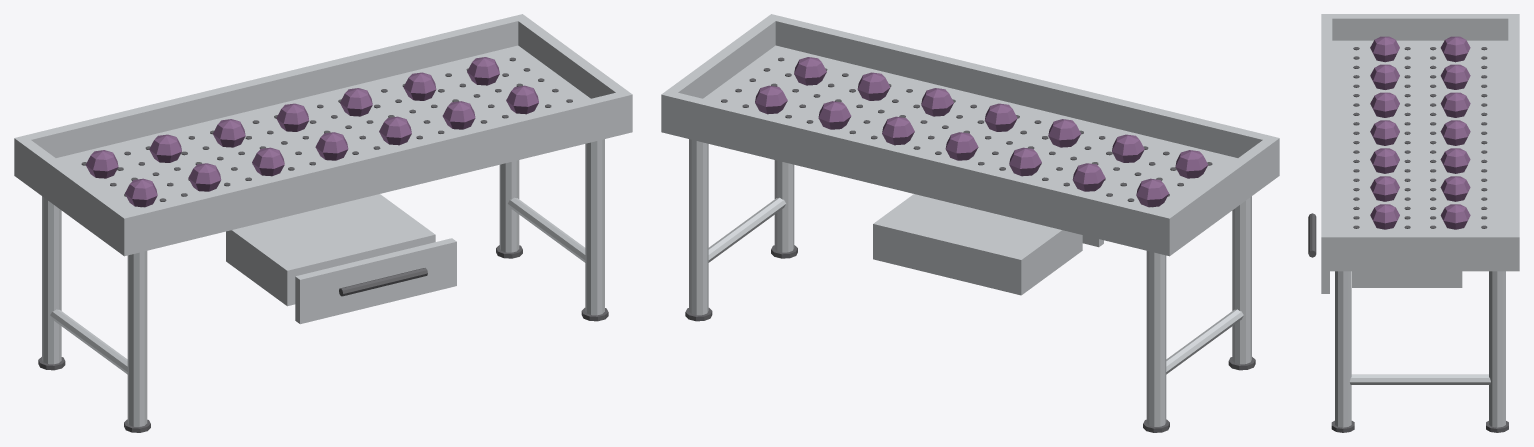
The model's file is sorting-table.glb.
3 views of the same model, side by side, from view 1: azimuth 30°, elevation 25°; view 2: azimuth 150°, elevation 25°; view 3: azimuth 270°, elevation 25° (orthographic). The views are drawn at different scales.
Visible parts, largest first — view 1: sorting-table-steel, drawer/steel, sorting-table-grape, sorting-table-dark, drawer/dark; view 2: sorting-table-steel, drawer/steel, sorting-table-grape, sorting-table-dark; view 3: sorting-table-steel, sorting-table-grape, drawer/steel, sorting-table-dark, drawer/dark.
Part boxes in pixels (<box>): sorting-table-steel: <box>14,14,632,426</box>; drawer/steel: <box>226,194,456,324</box>; sorting-table-grape: <box>85,57,538,207</box>; sorting-table-dark: <box>38,57,608,432</box>; drawer/dark: <box>339,268,427,296</box>; sorting-table-steel: <box>661,14,1279,426</box>; drawer/steel: <box>873,194,1103,295</box>; sorting-table-grape: <box>755,57,1208,207</box>; sorting-table-dark: <box>685,57,1255,432</box>; sorting-table-steel: <box>1321,14,1519,427</box>; sorting-table-grape: <box>1370,36,1470,229</box>; drawer/steel: <box>1321,271,1462,293</box>; sorting-table-dark: <box>1331,47,1508,432</box>; drawer/dark: <box>1308,213,1316,257</box>.
Bounding box in the file's own units: 2.4 × 1.01 × 0.958.
